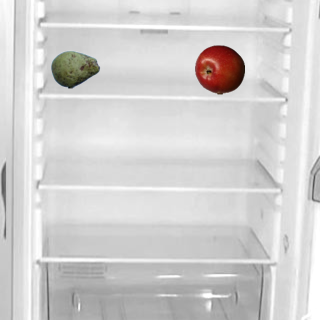Apple Braeburn: (194, 44, 244, 94)
Pear Stone: (50, 44, 100, 94)
